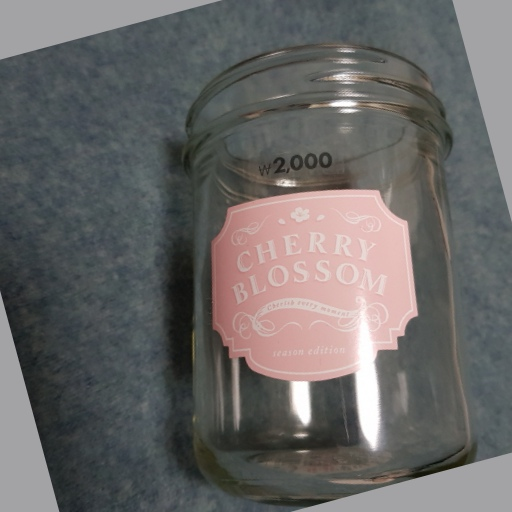Glass_5: (169, 39, 477, 496)
